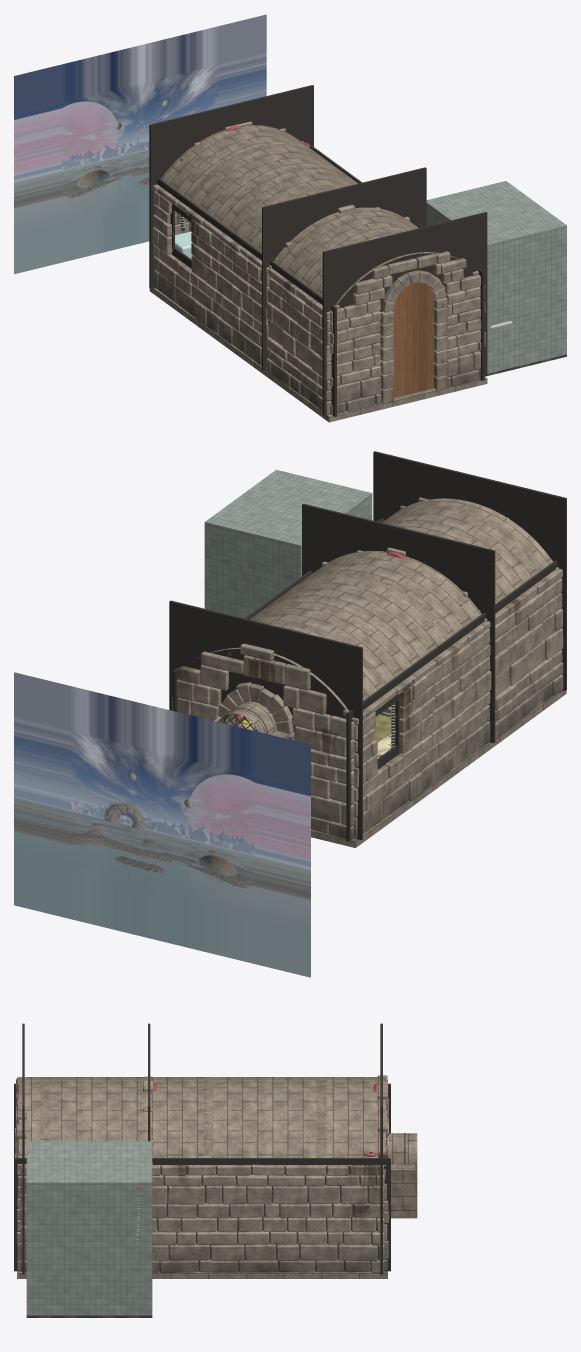
Rendered from flat.art.glb.
3 renders of one model, top to bottom at view 1: azimuth 30°, elevation 25°; view 2: azimuth 150°, elevation 25°; view 3: azimuth 270°, elevation 25°, orthographic. The views are drawn at different scales.
Visible parts, largest first — view 1: art:1:view:noshadow, art:1:mortar, art:1:vault, art:1:bath_tile, art:1:stone_s, art:1:stone_w, art:1:stone_wh, art:1:door_oak, art:1:flagstone, art:1:stone_dark; view 2: art:1:view:noshadow, art:1:mortar, art:1:vault, art:1:stone_w, art:1:bath_tile, art:1:stone_n, art:1:stone_wh, art:1:stone_dark, art:1:flagstone; view 3: art:1:vault, art:1:stone_e, art:1:bath_tile, art:1:mortar, art:1:stone_dark, art:1:flagstone, art:1:stone_s, art:1:stone_n, art:1:stone_eh.
Part boxes in pixels (bbox=[...]): art:1:view:noshadow: bbox=[14, 14, 266, 274]; art:1:mortar: bbox=[149, 85, 487, 416]; art:1:vault: bbox=[160, 125, 476, 306]; art:1:bath_tile: bbox=[426, 181, 566, 373]; art:1:stone_s: bbox=[268, 204, 481, 414]; art:1:stone_w: bbox=[152, 184, 269, 365]; art:1:stone_wh: bbox=[266, 268, 331, 414]; art:1:door_oak: bbox=[392, 282, 433, 397]; art:1:flagstone: bbox=[149, 288, 487, 422]; art:1:stone_dark: bbox=[161, 144, 478, 401]; art:1:view:noshadow: bbox=[14, 672, 310, 977]; art:1:mortar: bbox=[169, 451, 566, 841]; art:1:vault: bbox=[191, 498, 552, 738]; art:1:stone_w: bbox=[352, 621, 491, 838]; art:1:bath_tile: bbox=[204, 469, 372, 618]; art:1:stone_n: bbox=[177, 643, 354, 839]; art:1:stone_wh: bbox=[495, 568, 563, 738]; art:1:stone_dark: bbox=[250, 505, 552, 719]; art:1:flagstone: bbox=[311, 690, 566, 847]; art:1:vault: bbox=[19, 1077, 417, 1216]; art:1:stone_e: bbox=[152, 1164, 384, 1272]; art:1:bath_tile: bbox=[26, 1141, 152, 1315]; art:1:mortar: bbox=[14, 1023, 390, 1274]; art:1:stone_dark: bbox=[40, 1077, 417, 1218]; art:1:flagstone: bbox=[17, 1271, 387, 1278]; art:1:stone_s: bbox=[15, 1076, 153, 1270]; art:1:stone_n: bbox=[377, 1075, 388, 1270]; art:1:stone_eh: bbox=[20, 1165, 26, 1272].
Bounding box in the file's own units: 5.55 × 3.69 × 8.8.
Materials: 50 (19 with a texture image).
